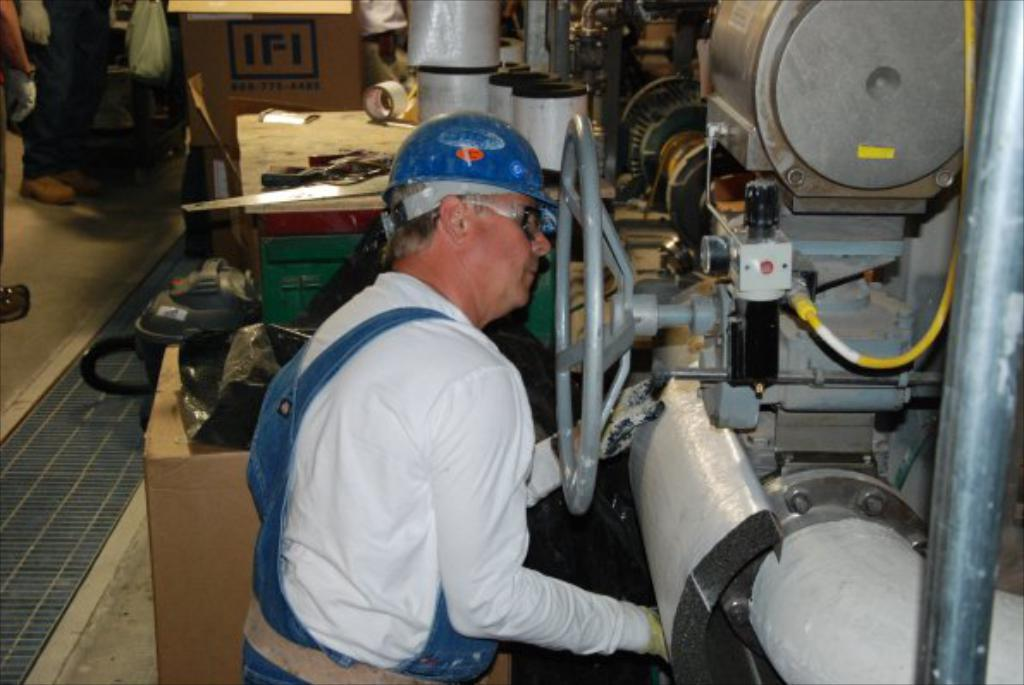helmet: (381, 110, 559, 305)
